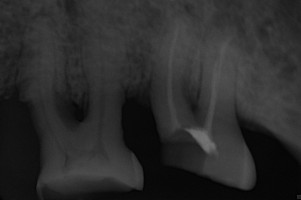Endo-Periodontal Lesion: (54, 87, 90, 129), (185, 80, 203, 113)
Furcation Involvement: (199, 8, 249, 44)
